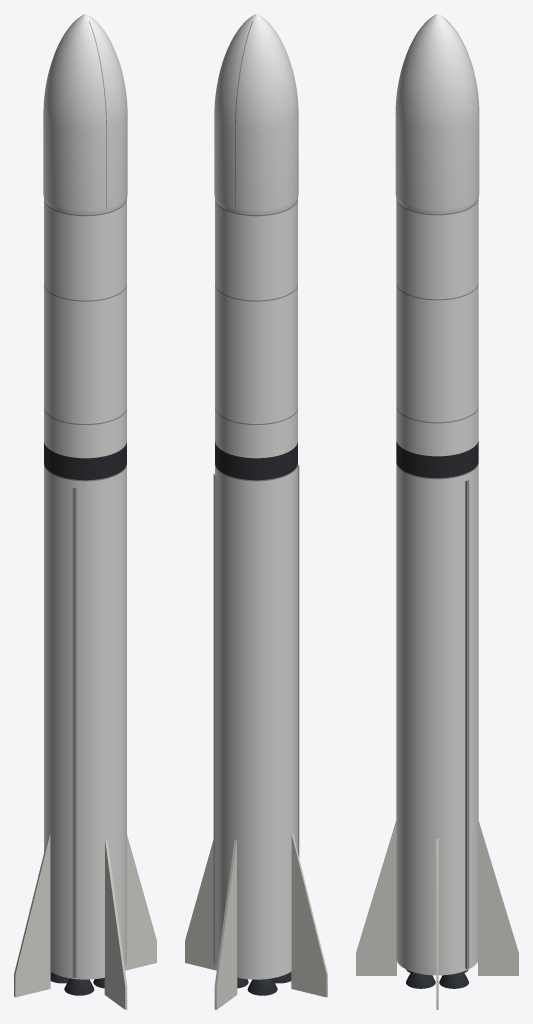
The picture shows the model from 3 angles, left to right: view 1: azimuth 30°, elevation 25°; view 2: azimuth 150°, elevation 25°; view 3: azimuth 270°, elevation 25°; orthographic projection.
Visible parts, largest first — view 1: lm2c; view 2: lm2c; view 3: lm2c.
Part boxes in pixels (box(x1,y1,x2,y2)): lm2c: box(14, 14, 156, 1009); lm2c: box(185, 14, 327, 1009); lm2c: box(356, 14, 518, 1009).
Size of the model in its own units: 6.6 by 43 by 6.6.
Materials: 1 (1 with a texture image).
